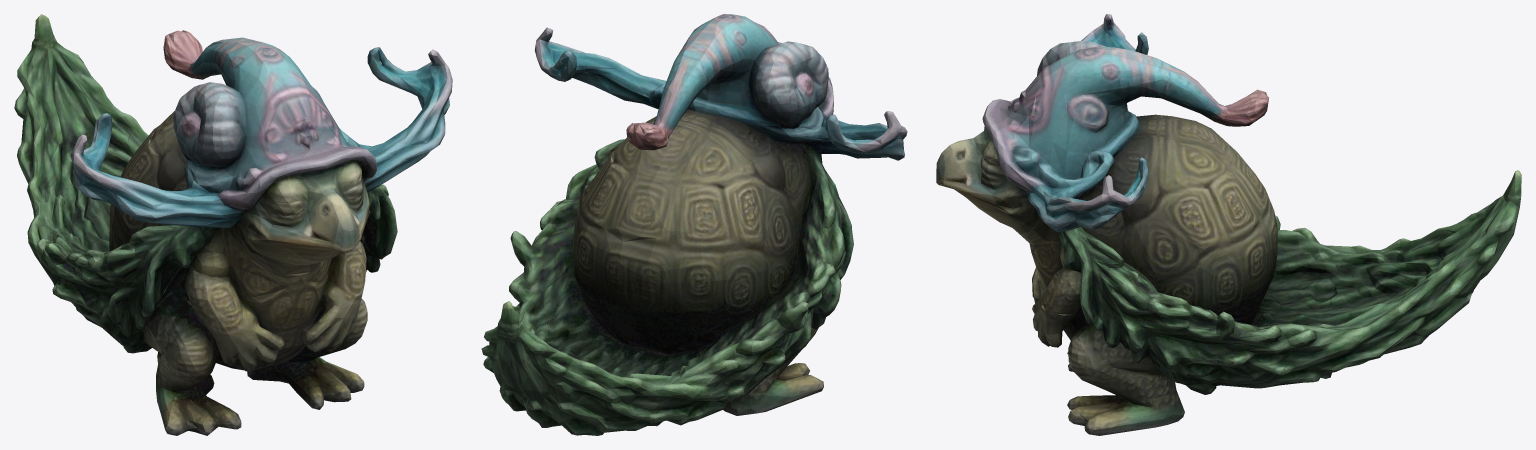
File: kappadeep__sleepyTidecaller.glb
3 views of the same model, side by side, from view 1: azimuth 30°, elevation 25°; view 2: azimuth 150°, elevation 25°; view 3: azimuth 270°, elevation 25° (orthographic). The views are drawn at different scales.
Parts seen in each view (by area): view 1: world; view 2: world; view 3: world.
Part boxes in pixels (x1,y1,x2,y2): world: [14, 14, 452, 435]; world: [481, 14, 907, 435]; world: [936, 14, 1521, 435].
Size of the model in its own units: 0.703 by 0.6492 by 1.
Materials: 1 (1 with a texture image).
